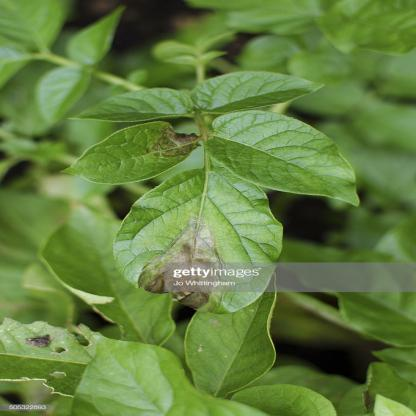potato leaf early blight: (111, 164, 285, 320), (2, 316, 199, 416), (55, 120, 201, 189)
